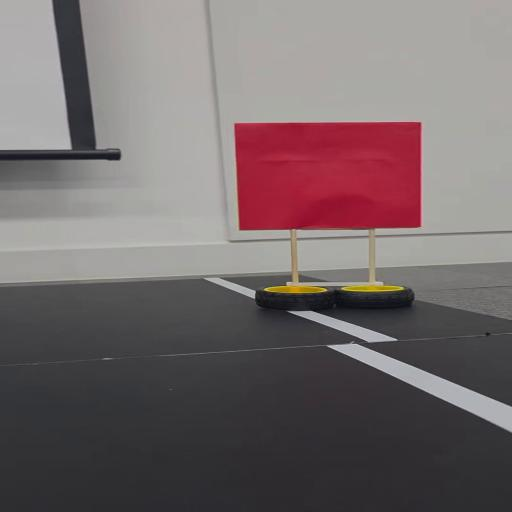Sign_A: (230, 117, 436, 319)
